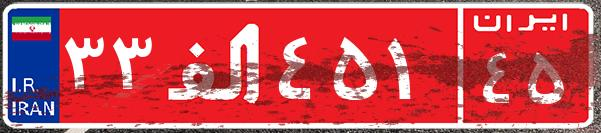1: (385, 28, 445, 110)
3: (57, 26, 110, 107), (110, 28, 158, 105)
4: (273, 28, 330, 110), (475, 38, 525, 113)
5: (330, 28, 385, 110), (525, 38, 570, 115)
الف: (158, 15, 273, 115)
